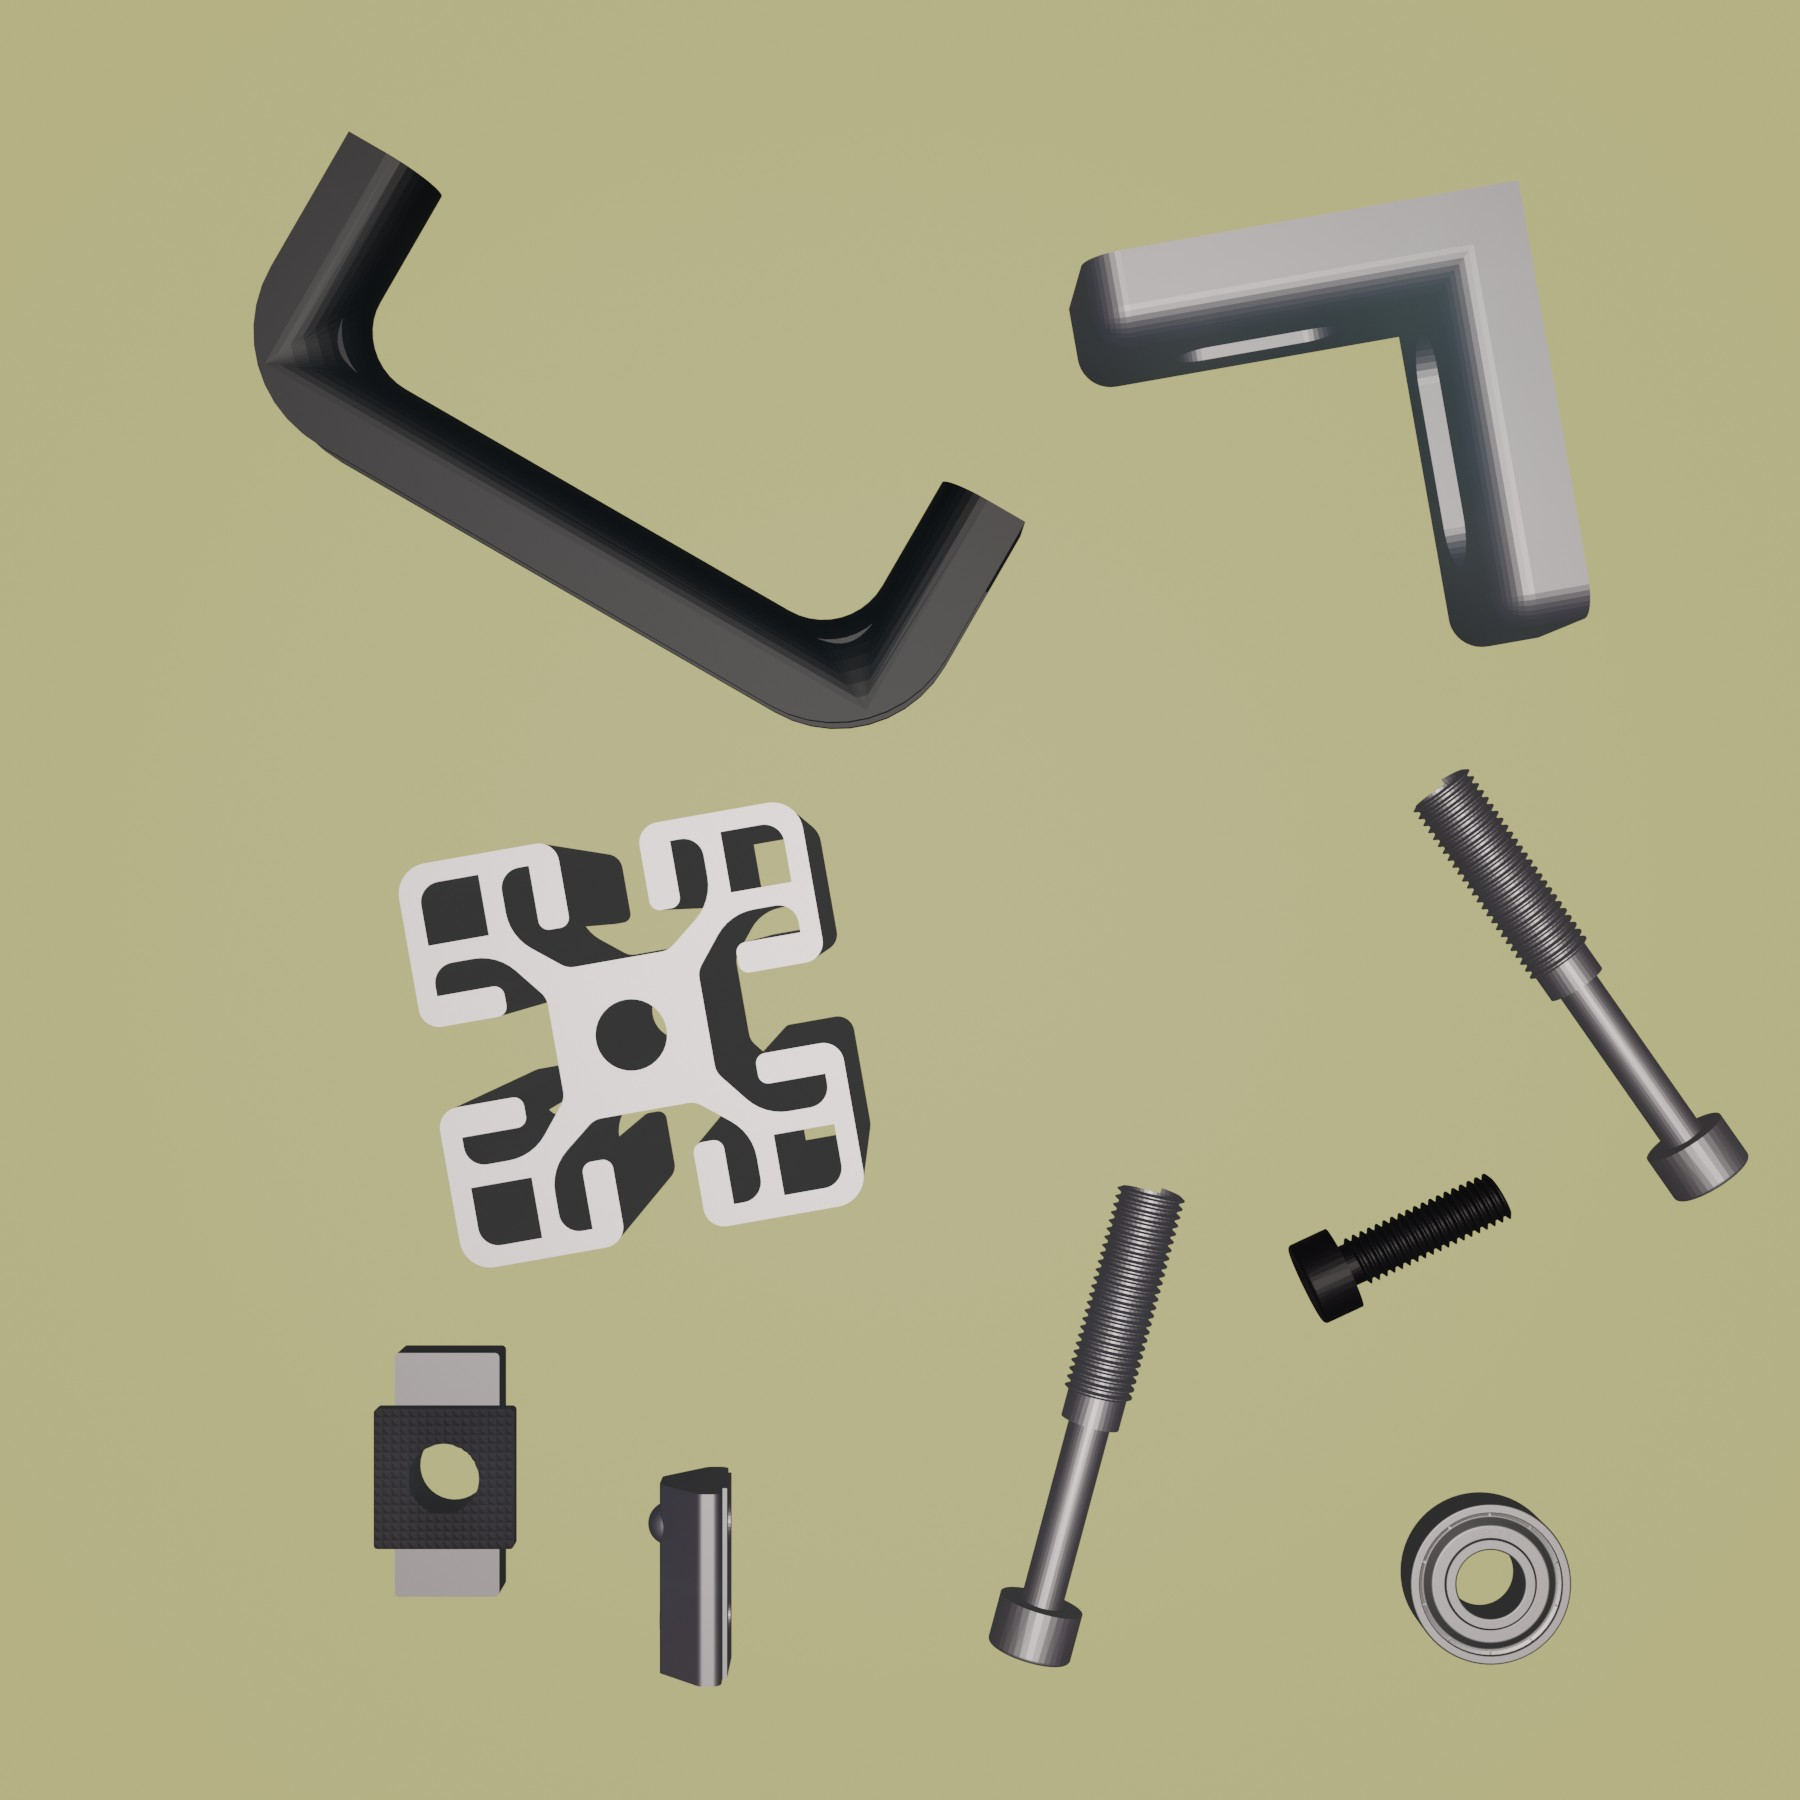Aluminium Extension: (397, 799, 874, 1273)
Ball Bearing: (1396, 1488, 1574, 1670)
Multiwinkel: (1066, 175, 1594, 649)
Pull Handle: (252, 129, 1029, 730)
Shoulder Socket Head Cap Screw: (1411, 768, 1751, 1205), (987, 1180, 1188, 1670)
Socket Head Cap Screw: (1287, 1170, 1515, 1325)
T Nut Square: (366, 1338, 521, 1601)
T Spring Nut: (646, 1462, 737, 1691)
